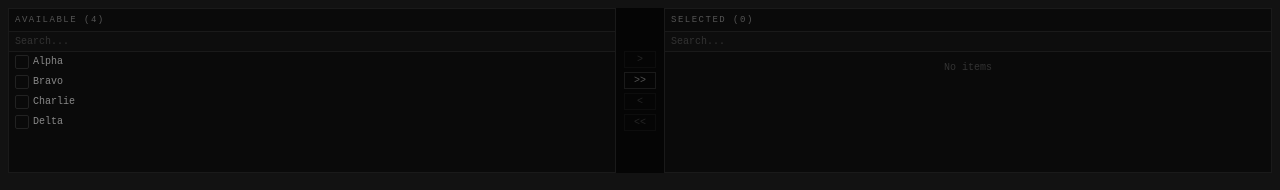
Transfer › search input filters items case-insensitively
Note: Type in left search
Type "al" into the field with placeholder "Search..." below "Available".
click(312, 42); type("al")  # box [9, 32, 615, 52]
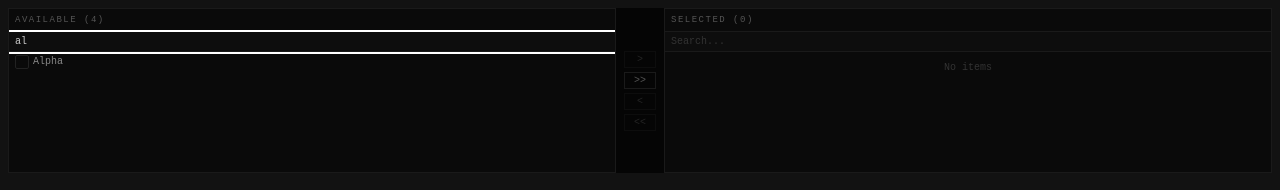
Expected: the option "Alpha" is shown, [15, 55, 63, 69]
Now the number of options is 1, box [15, 55, 63, 69]
